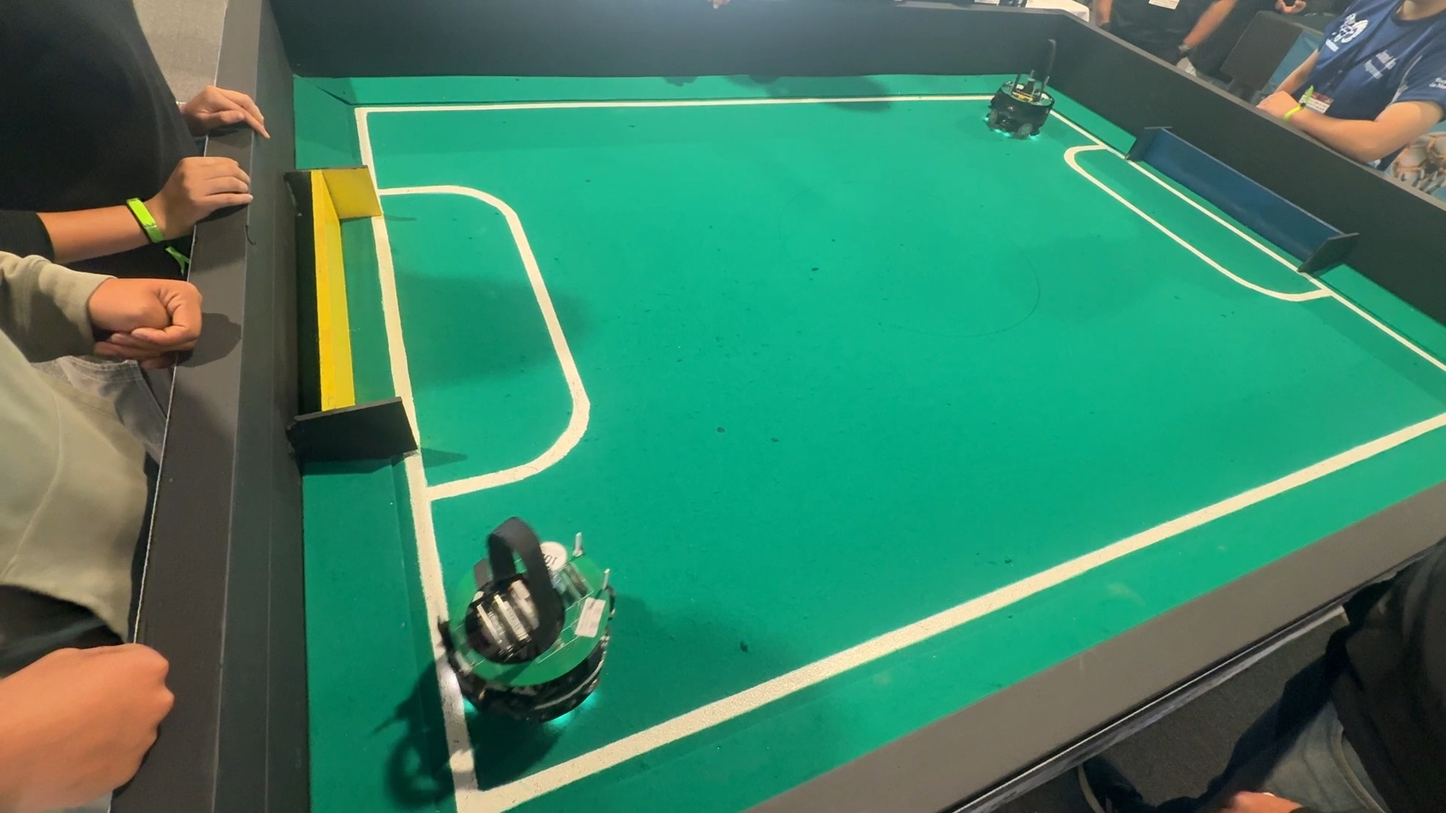Robot: (429, 511, 634, 763), (965, 66, 1074, 150)
